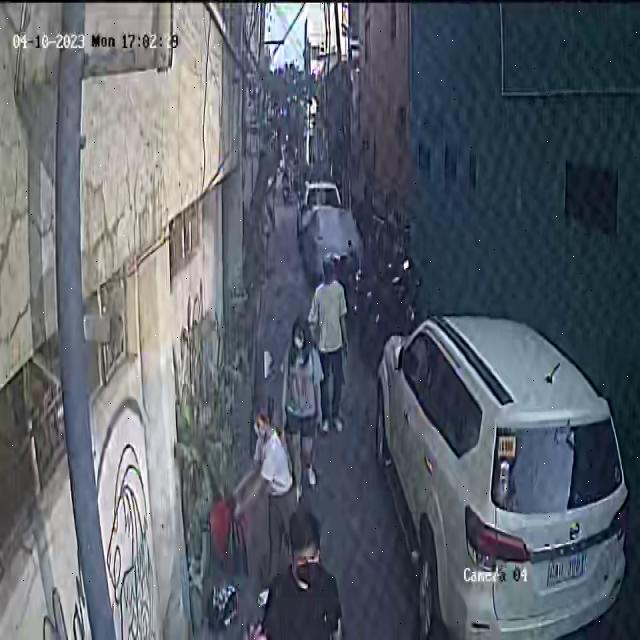human: (209, 395, 298, 607)
trash: (209, 474, 253, 574)
